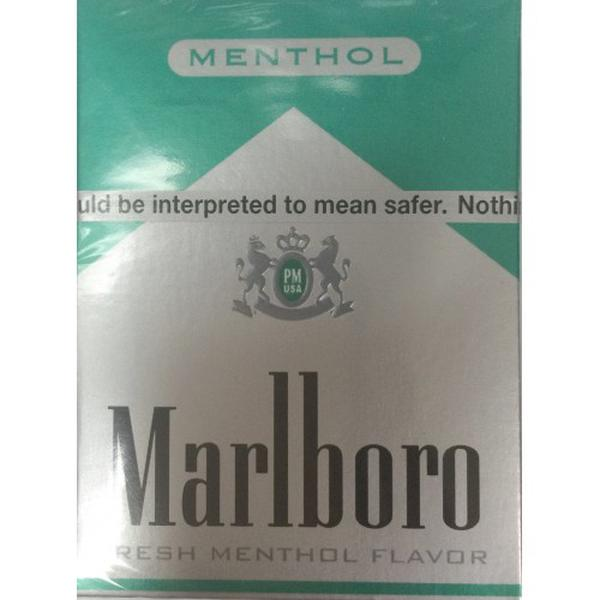marlboro_mentol: (75, 1, 523, 599)
